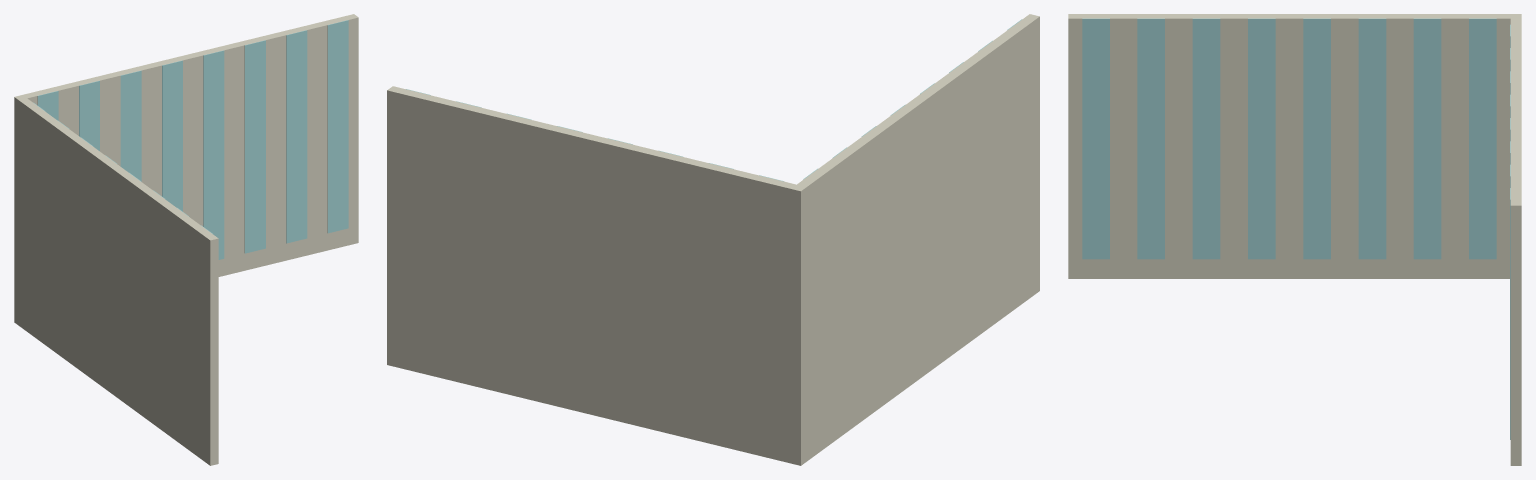
Rendered from walls_stripes.a9569fbcef86.glb.
The picture shows the model from 3 angles, left to right: view 1: azimuth 30°, elevation 25°; view 2: azimuth 150°, elevation 25°; view 3: azimuth 270°, elevation 25°; orthographic projection. The views are drawn at different scales.
Visible parts, largest first — view 1: walls_stripes; view 2: walls_stripes; view 3: walls_stripes.
Boxes of the visible parts, x1,y1,x2,y2 form: walls_stripes: (14, 14, 358, 465); walls_stripes: (387, 14, 1039, 465); walls_stripes: (1068, 14, 1521, 465).
Size of the model in its own units: 4.1 by 2.6 by 4.1.
